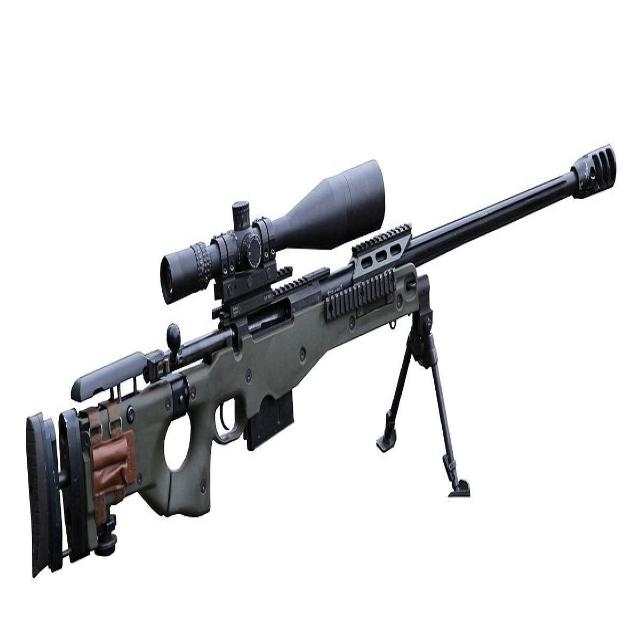weapon: (25, 137, 619, 588)
